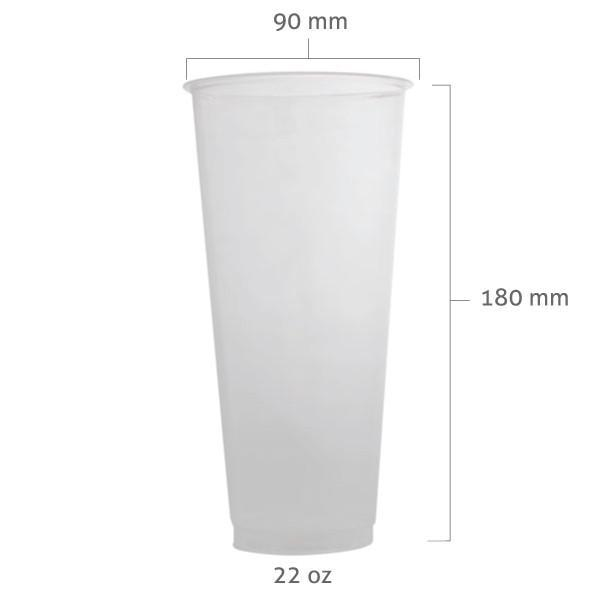plastic_glass: (173, 63, 438, 558)
